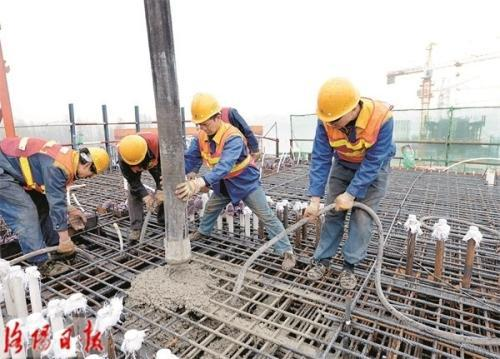helmet: (309, 67, 364, 141), (188, 86, 229, 139), (65, 145, 111, 184), (116, 131, 151, 170)
